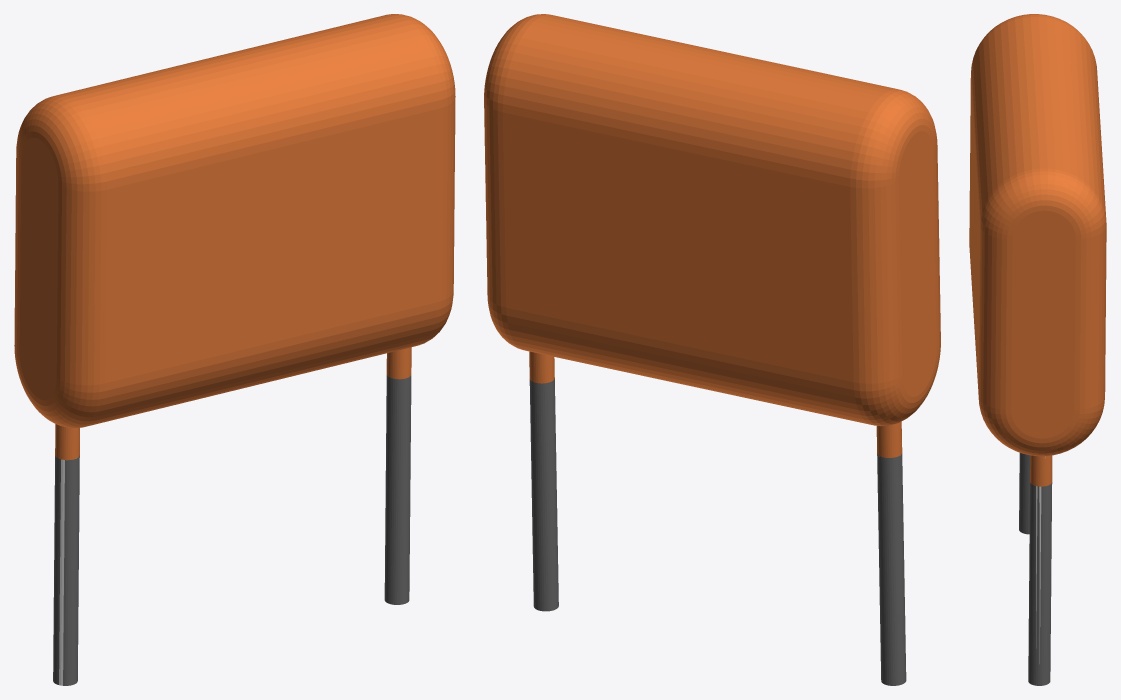
Rendered from kapasitor polyester.fbx.
3 renders of one model, left to right at view 1: azimuth 30°, elevation 25°; view 2: azimuth 150°, elevation 25°; view 3: azimuth 270°, elevation 25°, orthographic. The views are drawn at different scales.
Visible parts, largest first — view 1: Capacitor Polyester; view 2: Capacitor Polyester; view 3: Capacitor Polyester.
Part boxes in pixels (x1=…): Capacitor Polyester: x1=14, y1=14, x2=455, y2=685; Capacitor Polyester: x1=484, y1=14, x2=940, y2=685; Capacitor Polyester: x1=969, y1=14, x2=1106, y2=685.
Size of the model in its own units: 1314 by 1816 by 434.
